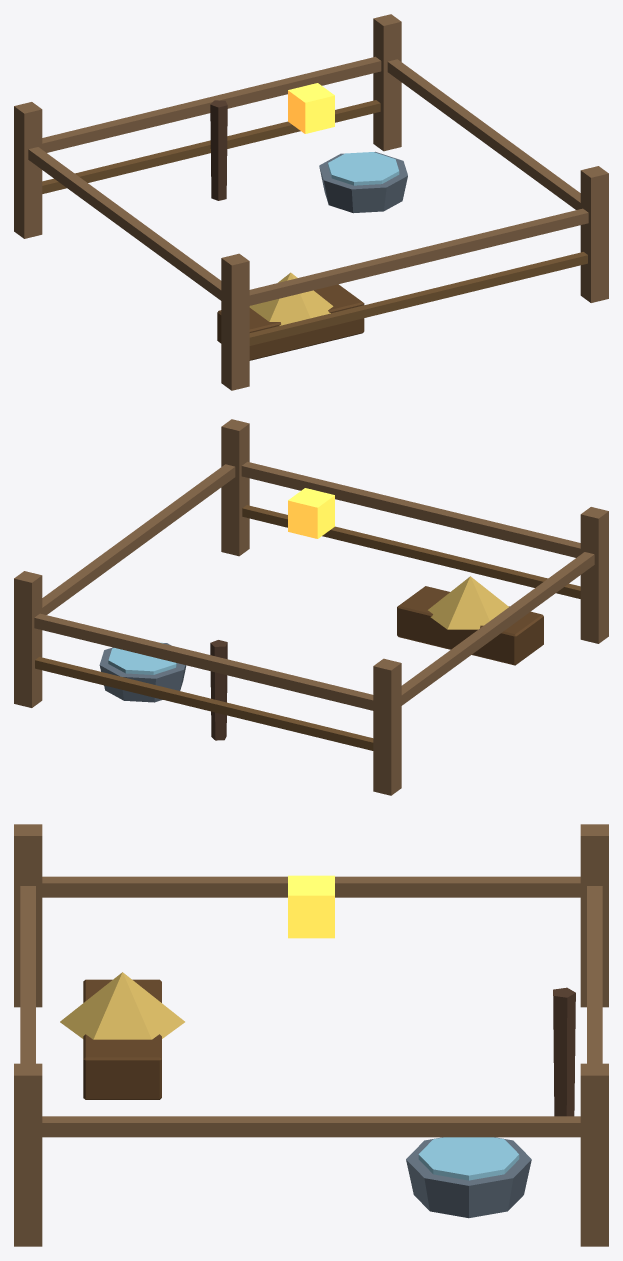
Rendered from ranch.glb.
The picture shows the model from 3 angles, top to bottom: view 1: azimuth 30°, elevation 25°; view 2: azimuth 150°, elevation 25°; view 3: azimuth 270°, elevation 25°; orthographic projection. The views are drawn at different scales.
Visible parts, largest first — view 1: M_b0, M_b2, M_b3, M_b5, M_b1, M_b6, M_b4, M_b7; view 2: M_b0, M_b2, M_b3, M_b4, M_b1, M_b5, M_b7, M_b6; view 3: M_b0, M_b3, M_b5, M_b4, M_b6, M_b1, M_b7.
Boxes of the visible parts, x1=… form: M_b0: x1=14, y1=14, x2=608, y2=390; M_b2: x1=42, y1=100, x2=587, y2=345; M_b3: x1=217, y1=284, x2=364, y2=360; M_b5: x1=319, y1=151, x2=407, y2=213; M_b1: x1=288, y1=83, x2=334, y2=133; M_b6: x1=328, y1=152, x2=399, y2=185; M_b4: x1=249, y1=272, x2=333, y2=325; M_b7: x1=210, y1=100, x2=227, y2=200; M_b0: x1=14, y1=419, x2=608, y2=795; M_b2: x1=35, y1=505, x2=580, y2=750; M_b3: x1=397, y1=586, x2=543, y2=665; M_b4: x1=428, y1=576, x2=508, y2=629; M_b1: x1=288, y1=488, x2=334, y2=538; M_b5: x1=99, y1=643, x2=186, y2=702; M_b7: x1=210, y1=640, x2=227, y2=740; M_b6: x1=108, y1=642, x2=177, y2=674; M_b0: x1=14, y1=824, x2=608, y2=1246; M_b3: x1=83, y1=979, x2=161, y2=1099; M_b5: x1=406, y1=1137, x2=531, y2=1218; M_b4: x1=60, y1=972, x2=184, y2=1039; M_b6: x1=418, y1=1137, x2=519, y2=1180; M_b1: x1=288, y1=875, x2=334, y2=938; M_b7: x1=553, y1=987, x2=575, y2=1116.
Bounding box in the file's own units: 3.78 × 1.65 × 3.78.
